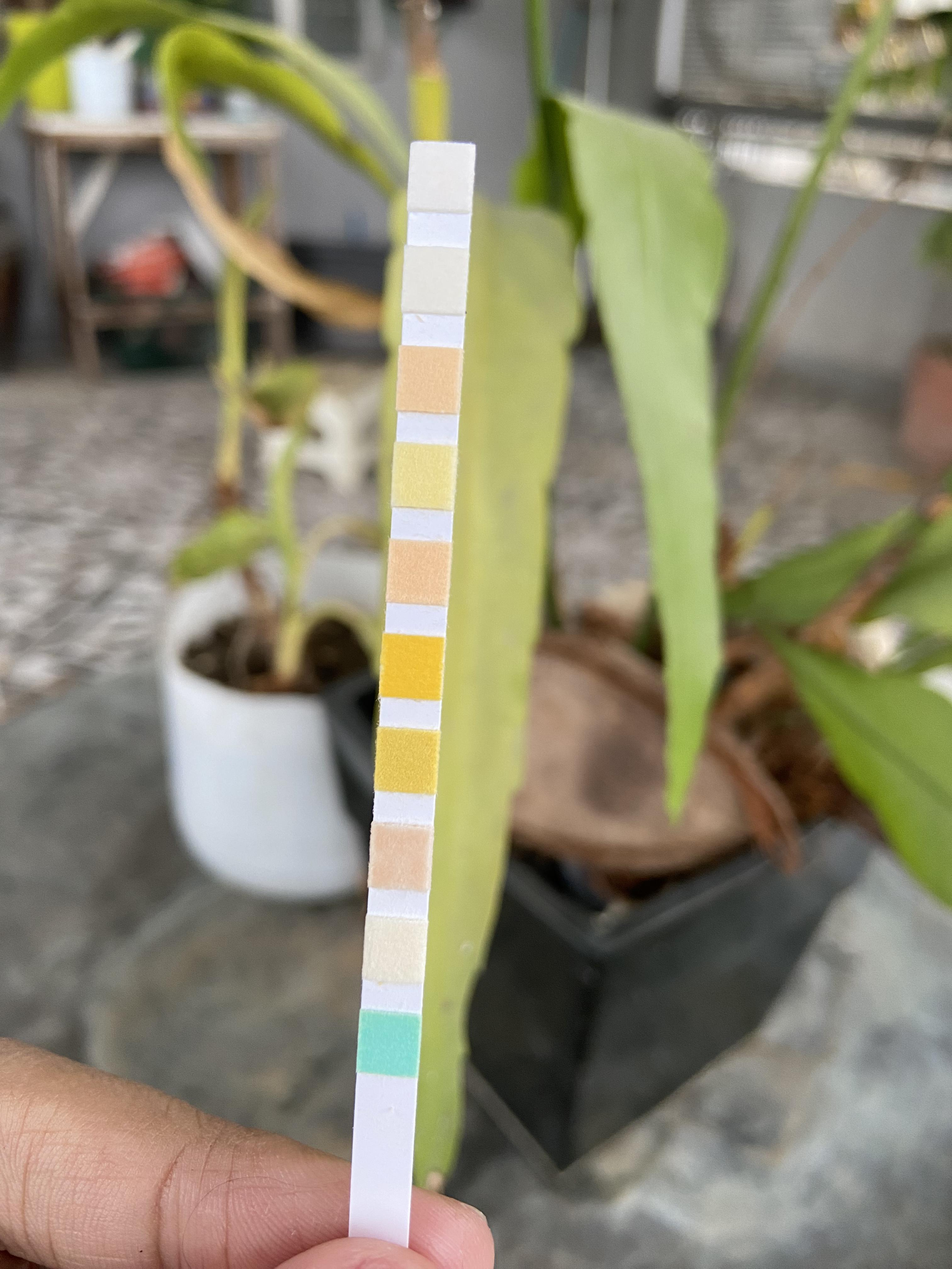Bilirubin: (367, 919, 424, 977)
Blood: (382, 637, 441, 695)
Glucose: (359, 1014, 418, 1074)
Ketone: (372, 826, 430, 887)
Leukocytes: (411, 145, 472, 210)
Nitrite: (405, 249, 466, 310)
Protein: (394, 446, 454, 505)
SpGravity: (377, 730, 437, 791)
Urobilinogen: (399, 350, 460, 409)
pH: (390, 543, 448, 603)
strip: (349, 142, 475, 1230)
